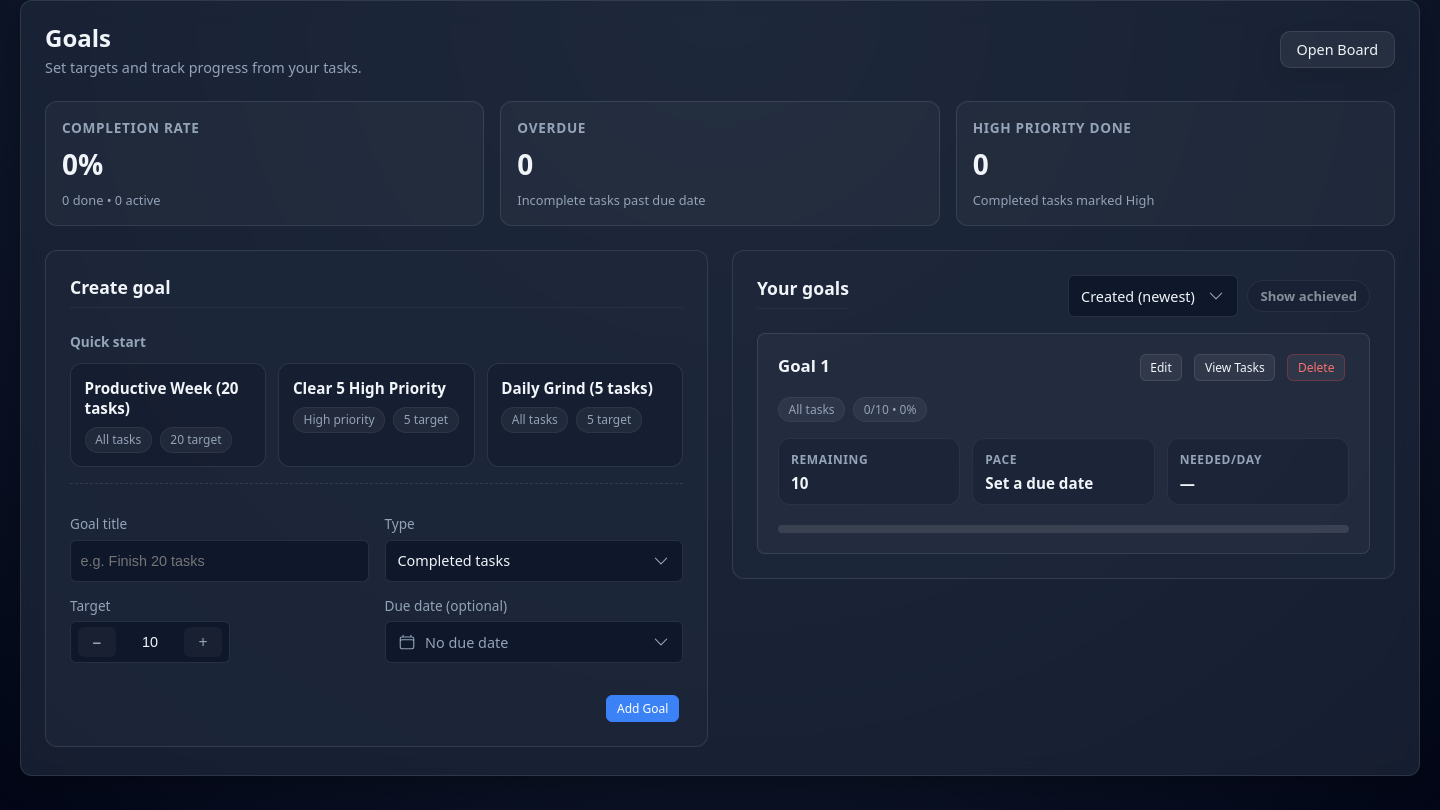
Test: Goals date picker › opens the calendar and sets due date when choosing Today
Step 1. Click the button "Edit" → x=1161, y=368, box left=1140, top=354, right=1182, bottom=381
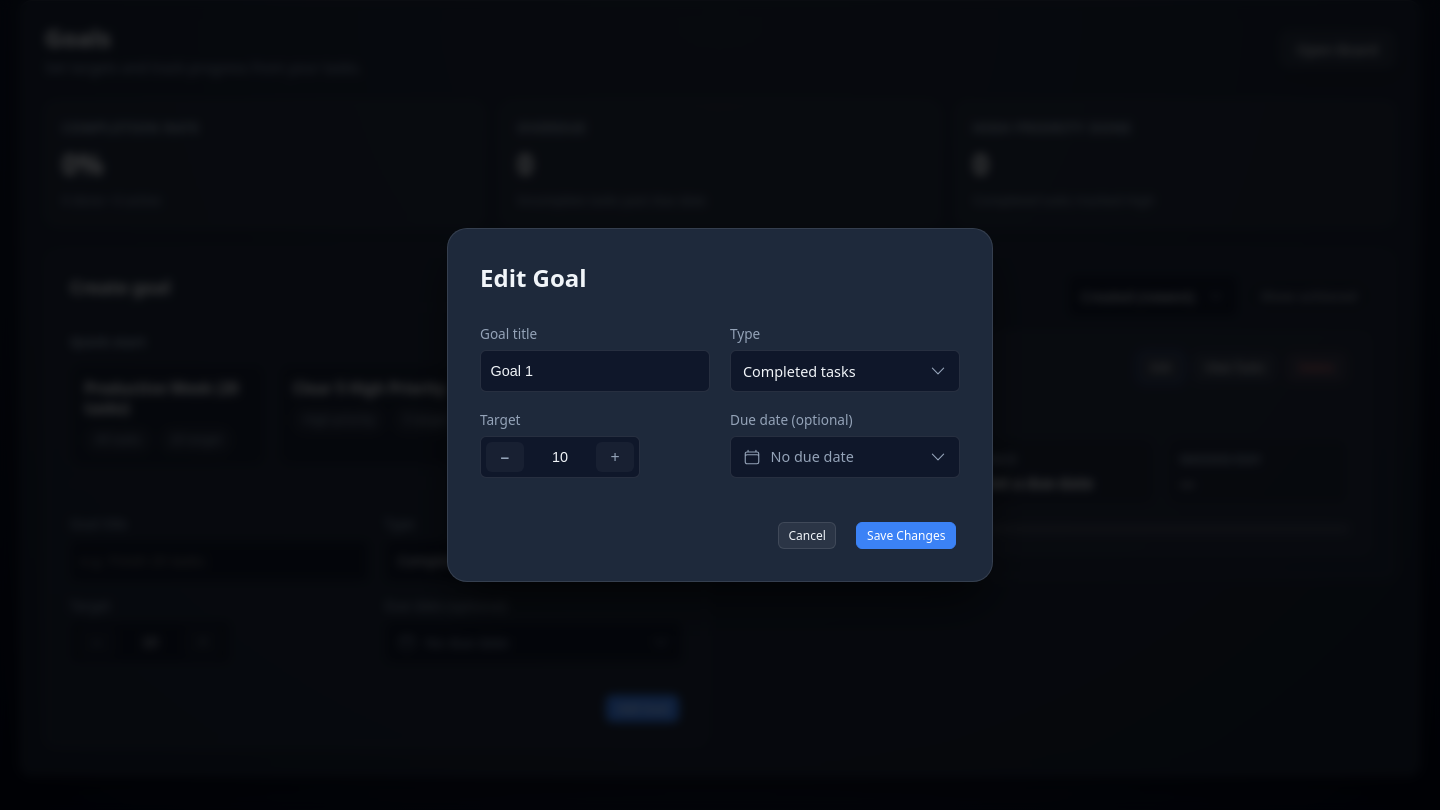
Check: the text "Edit Goal" is shown, box left=480, top=261, right=587, bottom=294
Check: the element with class "goals-modal" is shown, box left=447, top=228, right=993, bottom=582
Step 2. Click the button "No due date" → x=845, y=457, box left=730, top=436, right=960, bottom=478
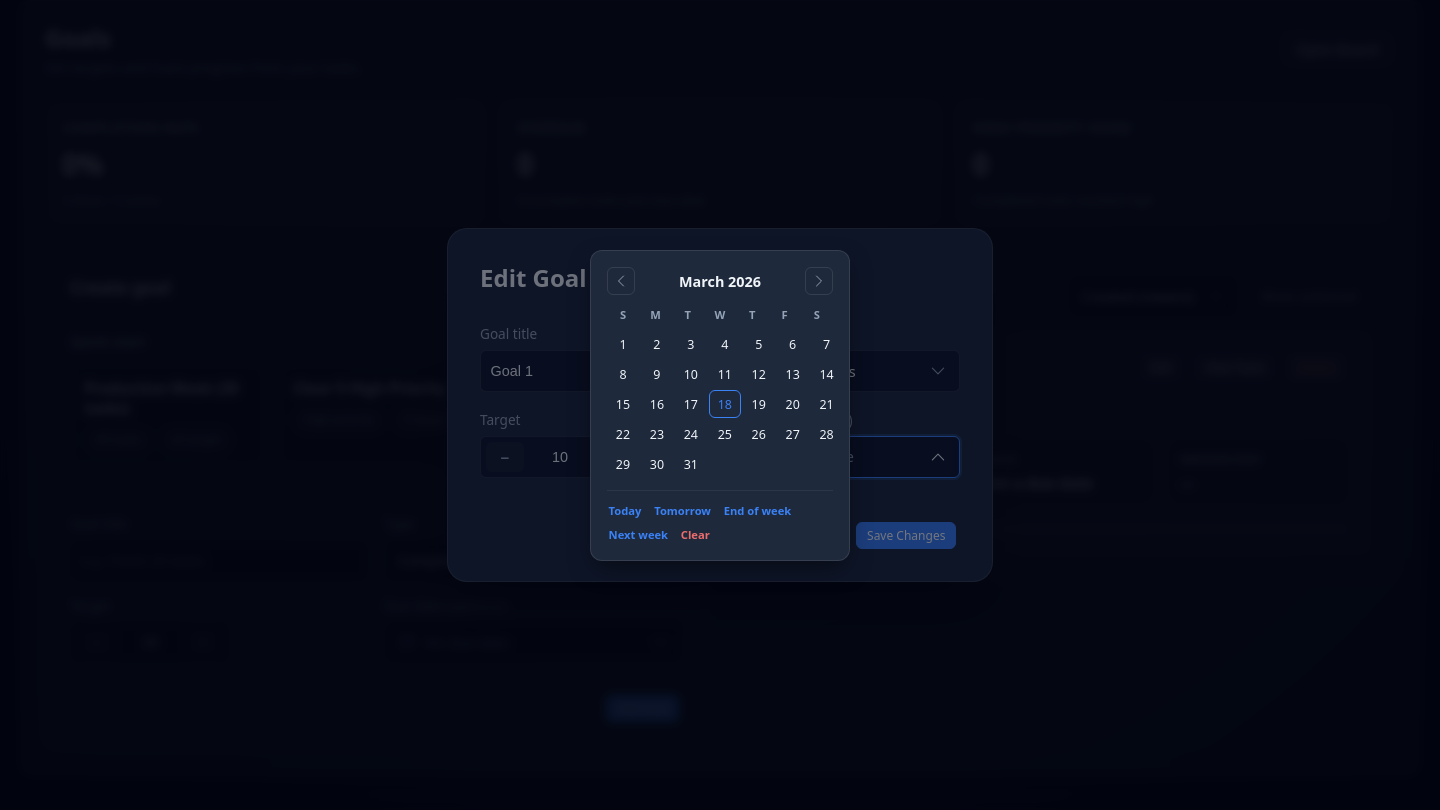
Check: the dialog is shown, box left=590, top=250, right=850, bottom=560
Step 3. Click the button "Today" → x=625, y=511, box left=607, top=503, right=643, bottom=520
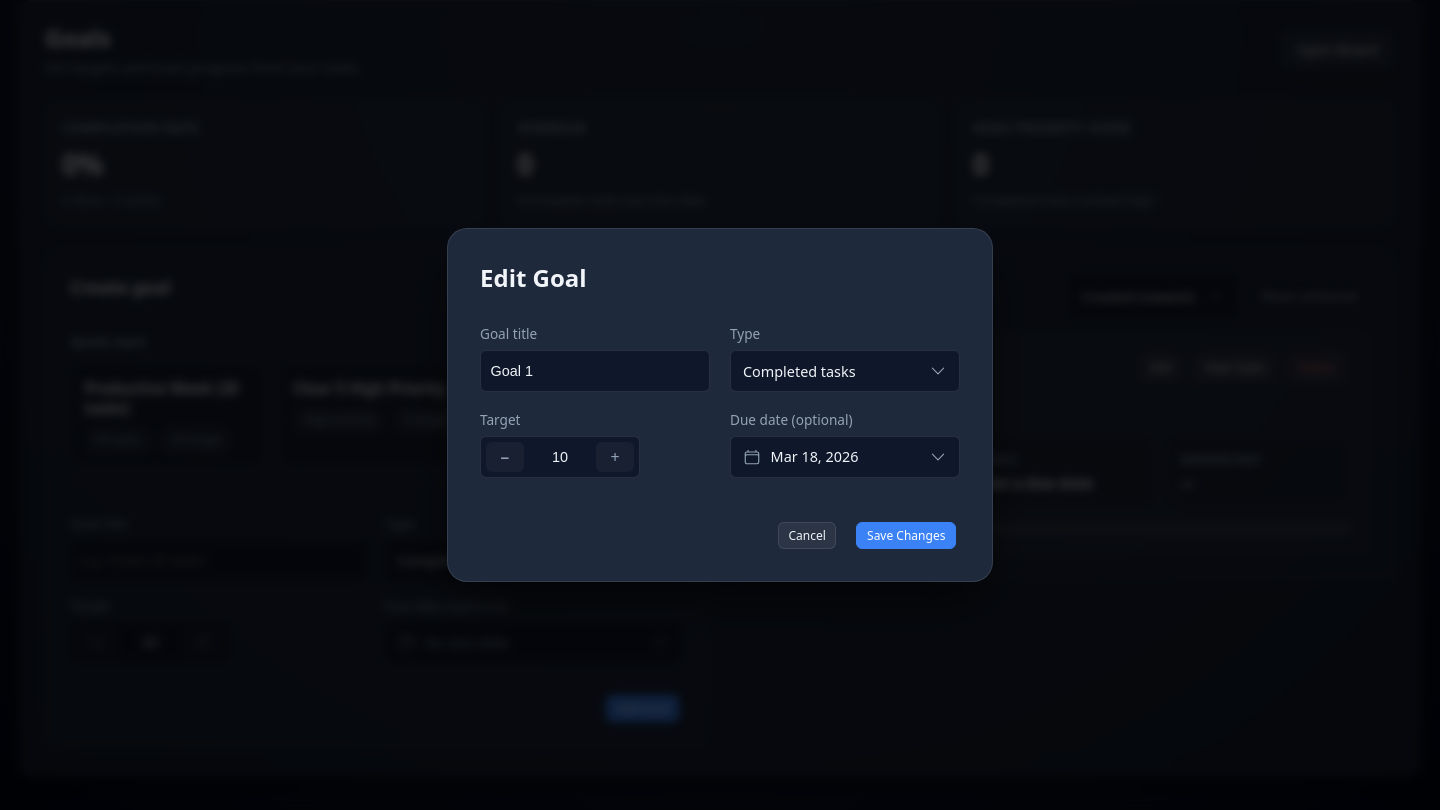
Check: the dialog is gone
